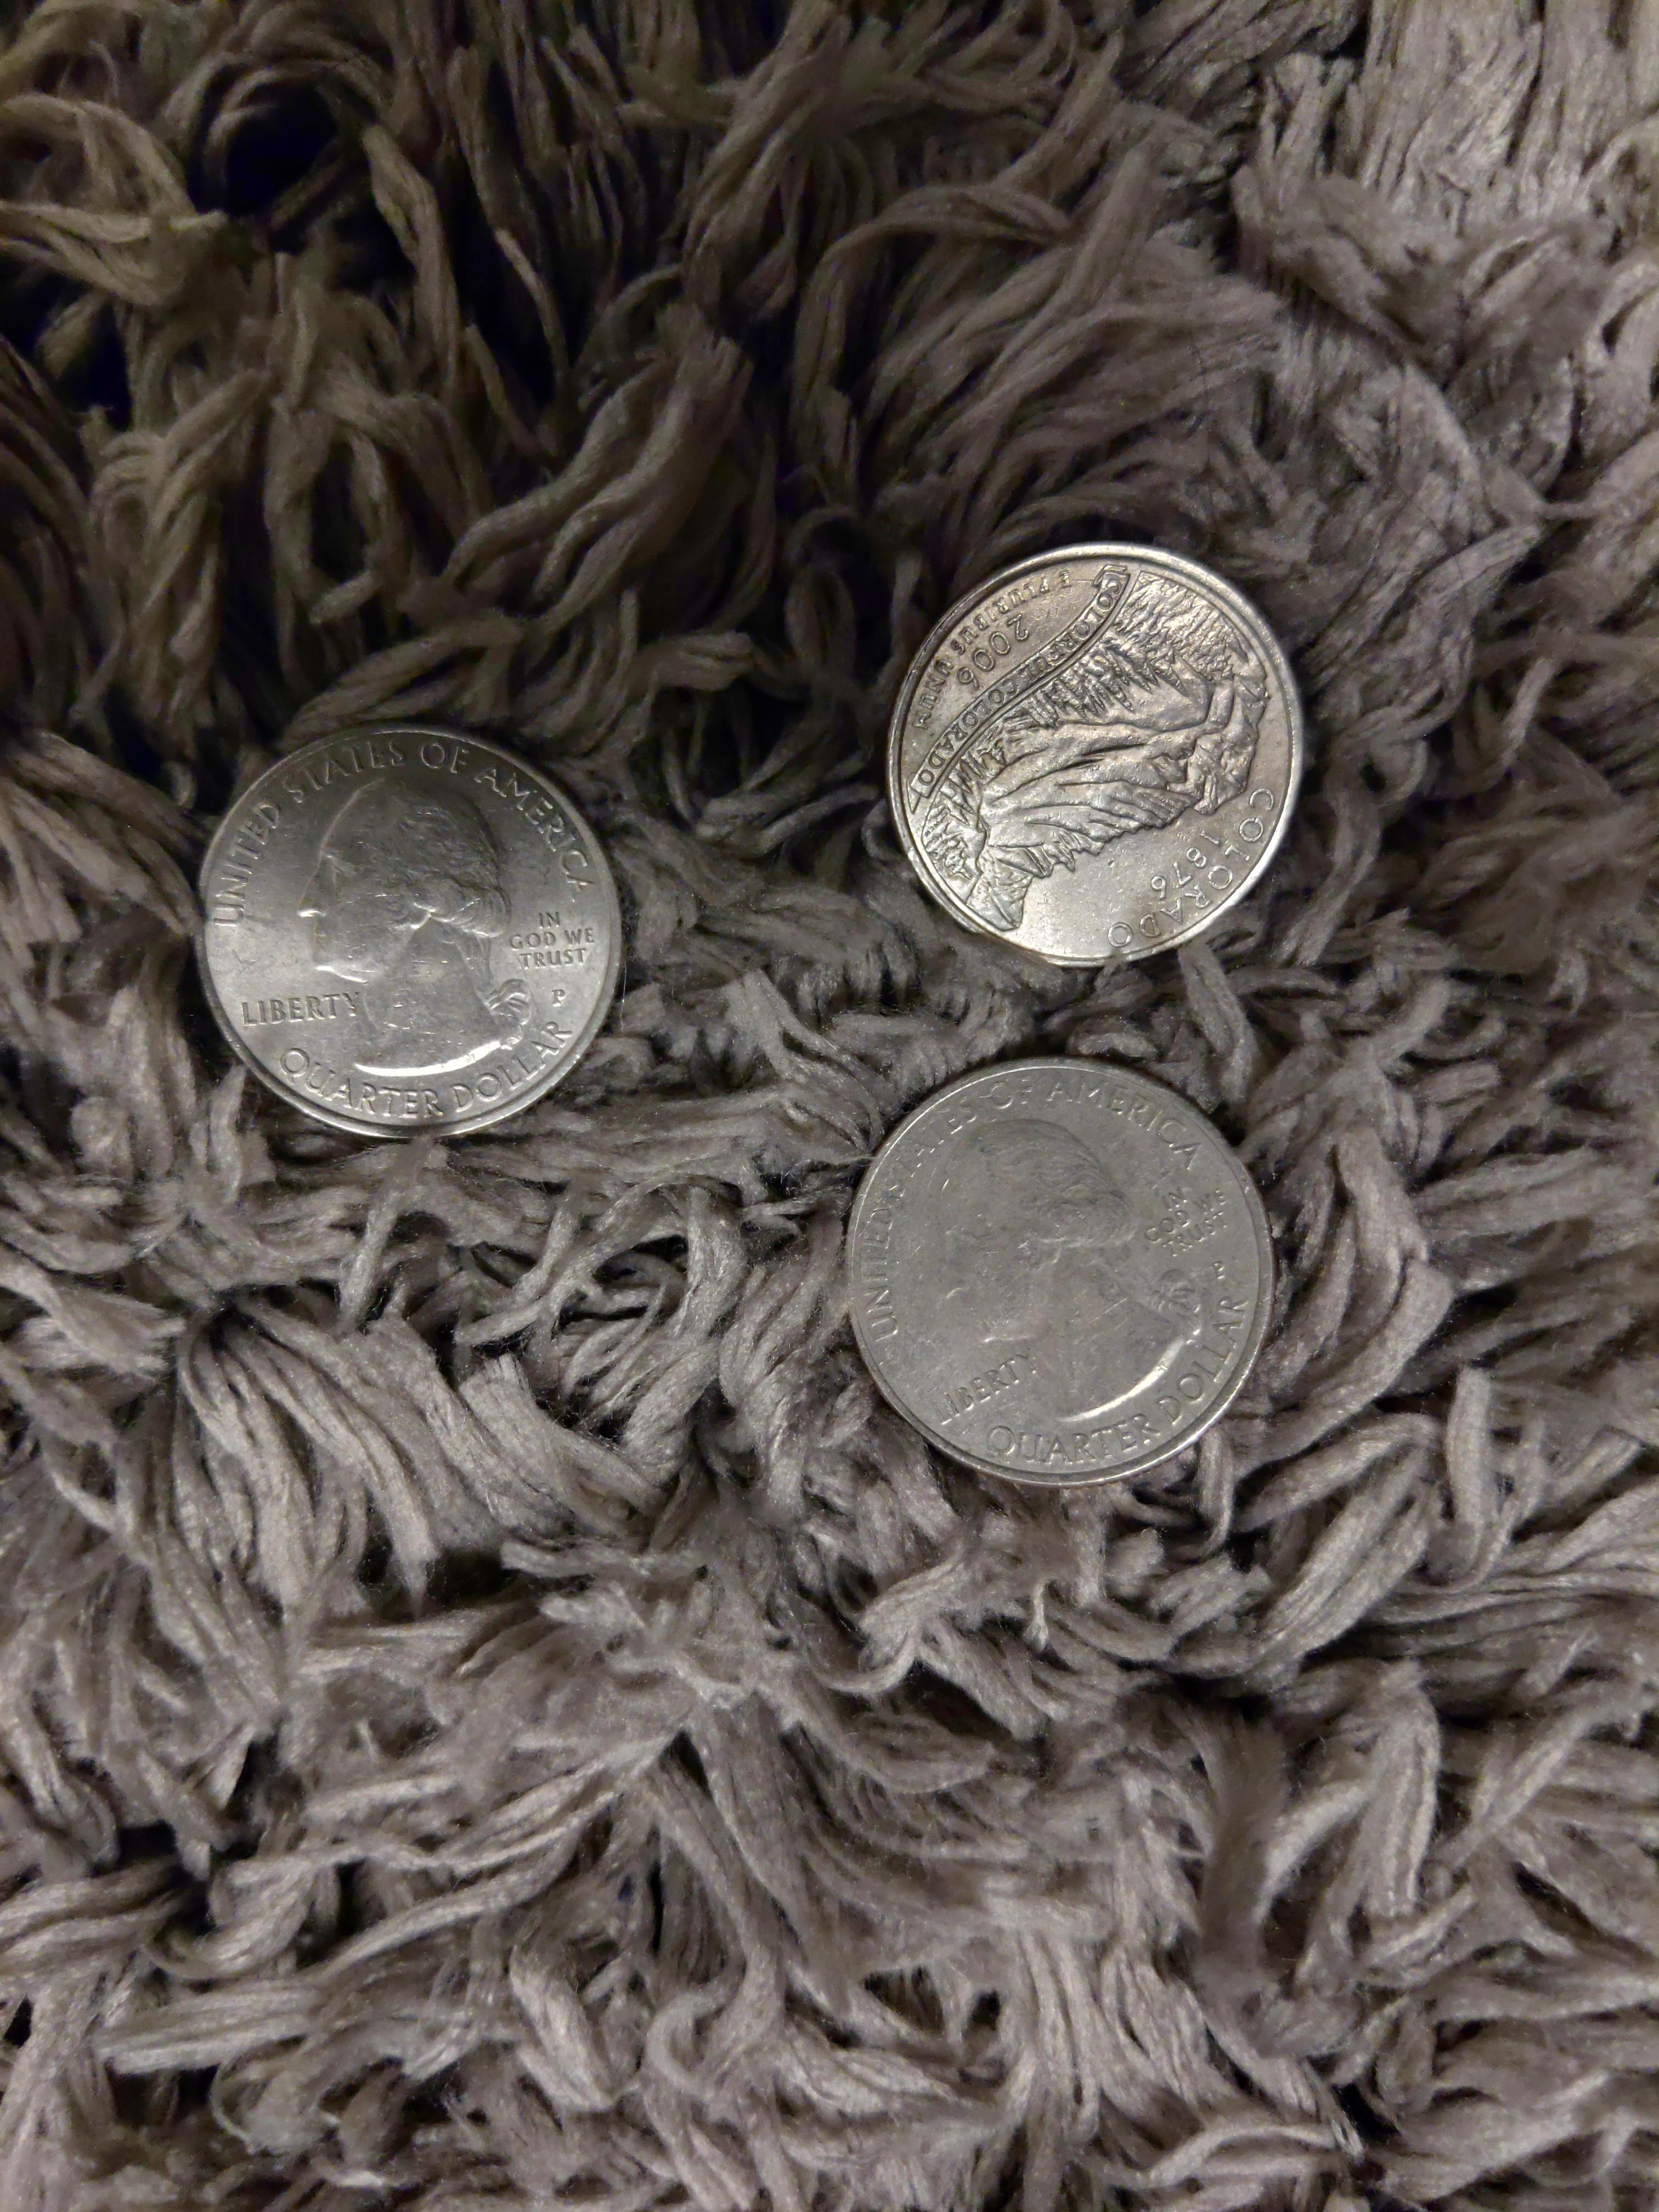Quarter: (842, 1052, 1283, 1489), (193, 718, 631, 1141), (884, 535, 1309, 968)
